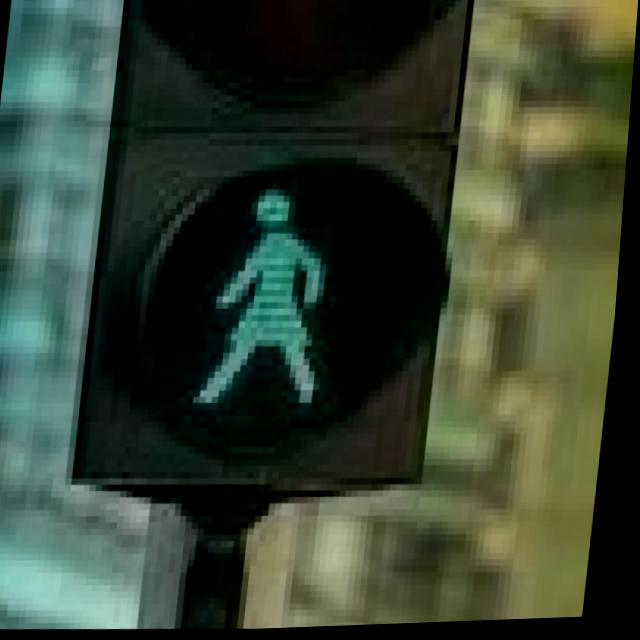green_light: (184, 167, 371, 429)
